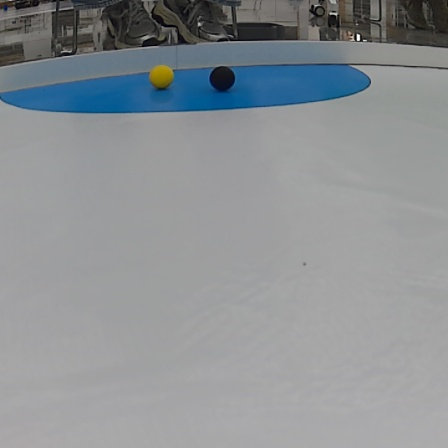black: (211, 64, 235, 92)
blue_base: (0, 63, 378, 117)
yellow: (148, 64, 173, 88)
